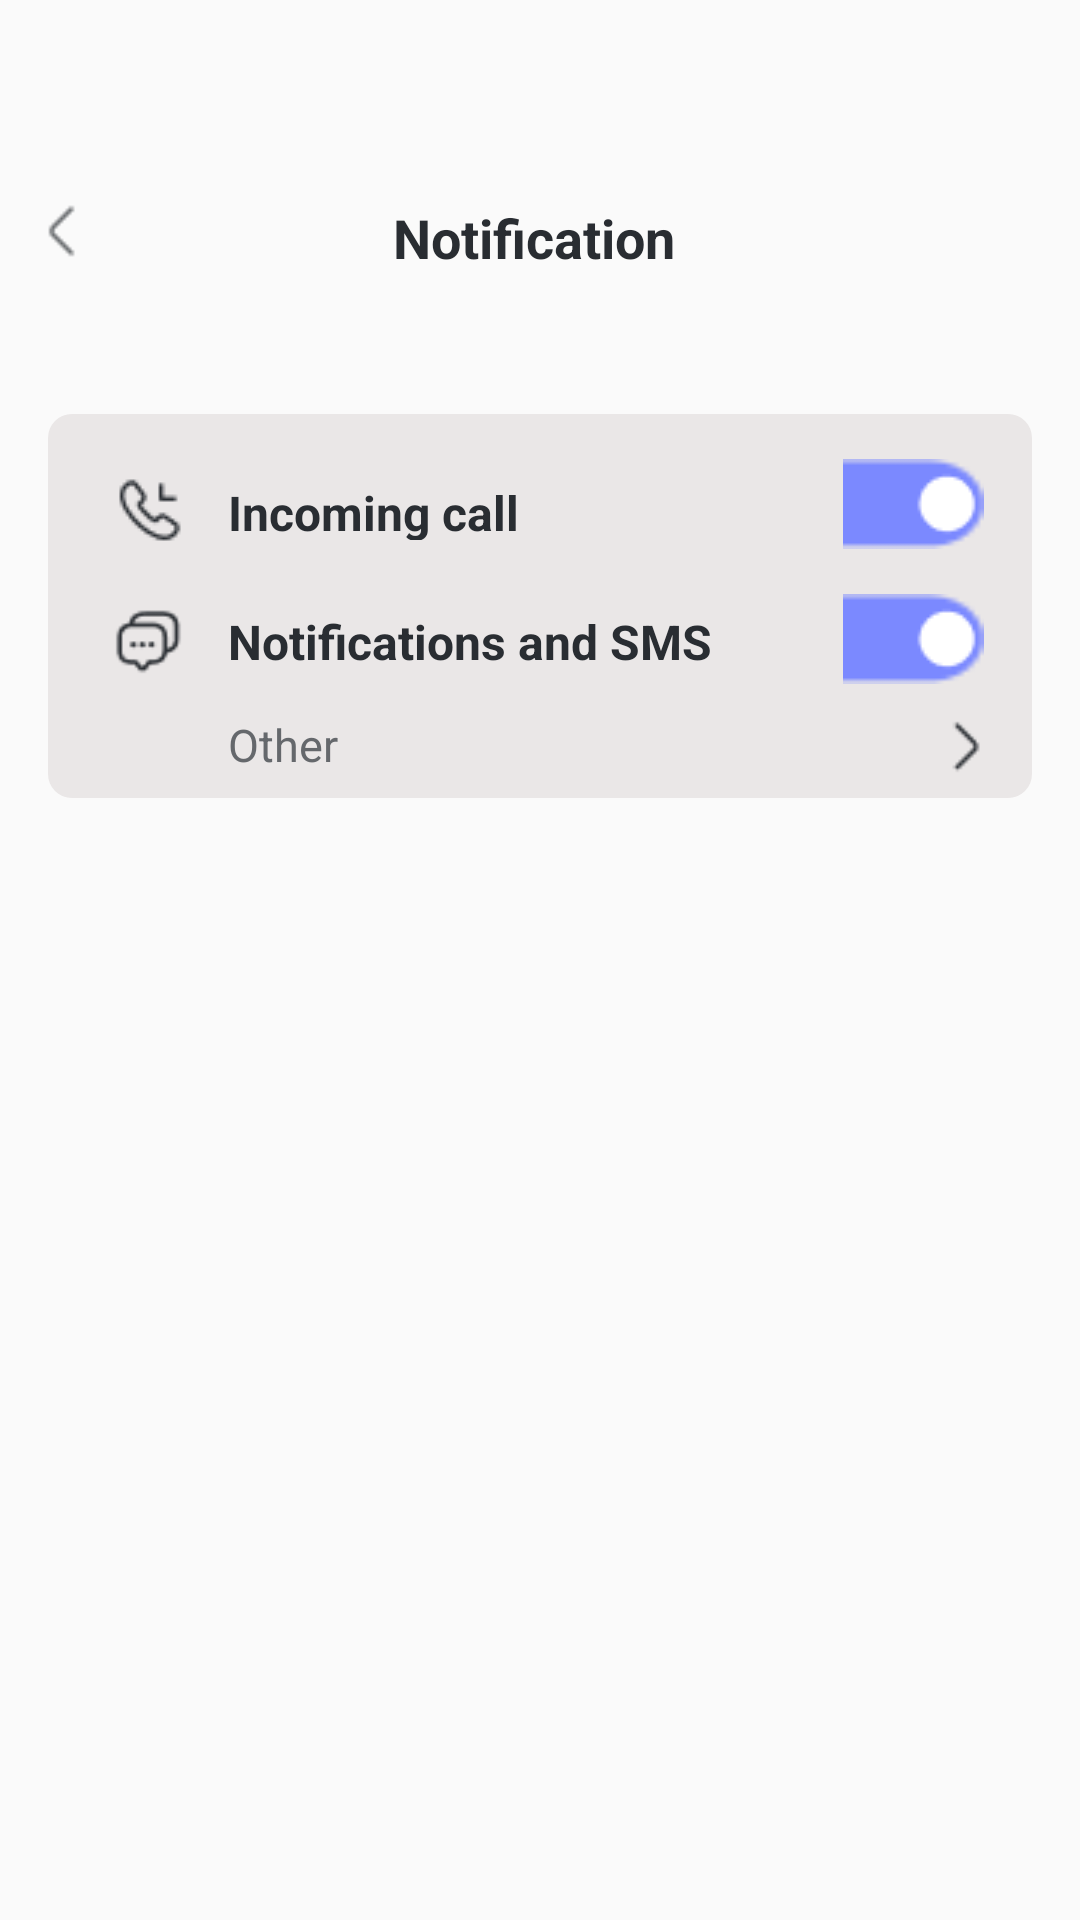

Where icons sit on this 1080*1920 app screen, as bbox=[x1, y1, x2, y2]:
arrow left: bbox=[48, 206, 75, 256]
arrowright: bbox=[953, 722, 980, 771]
callincoming: bbox=[119, 479, 181, 541]
messages: bbox=[116, 610, 181, 673]
